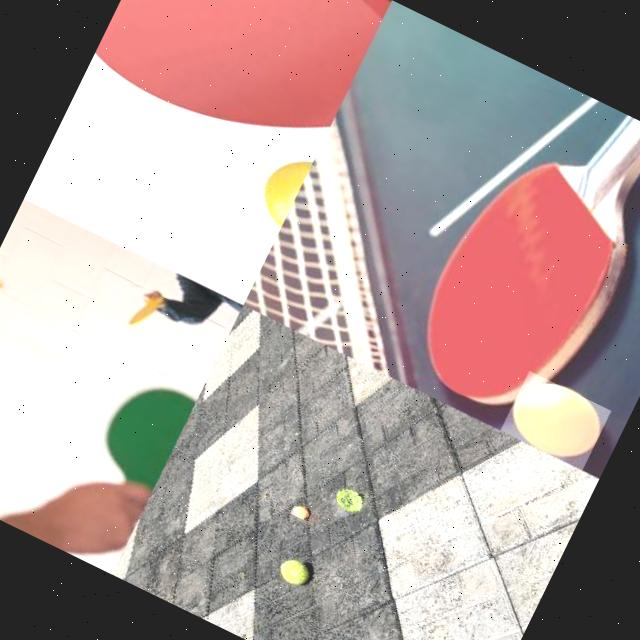ping-pong-ball: (500, 368, 612, 469), (249, 143, 313, 229), (290, 504, 309, 520), (0, 275, 3, 289)
